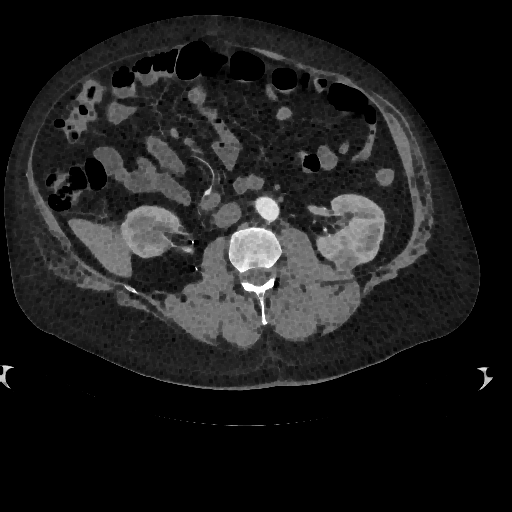Lesion: (327, 245, 359, 275)
